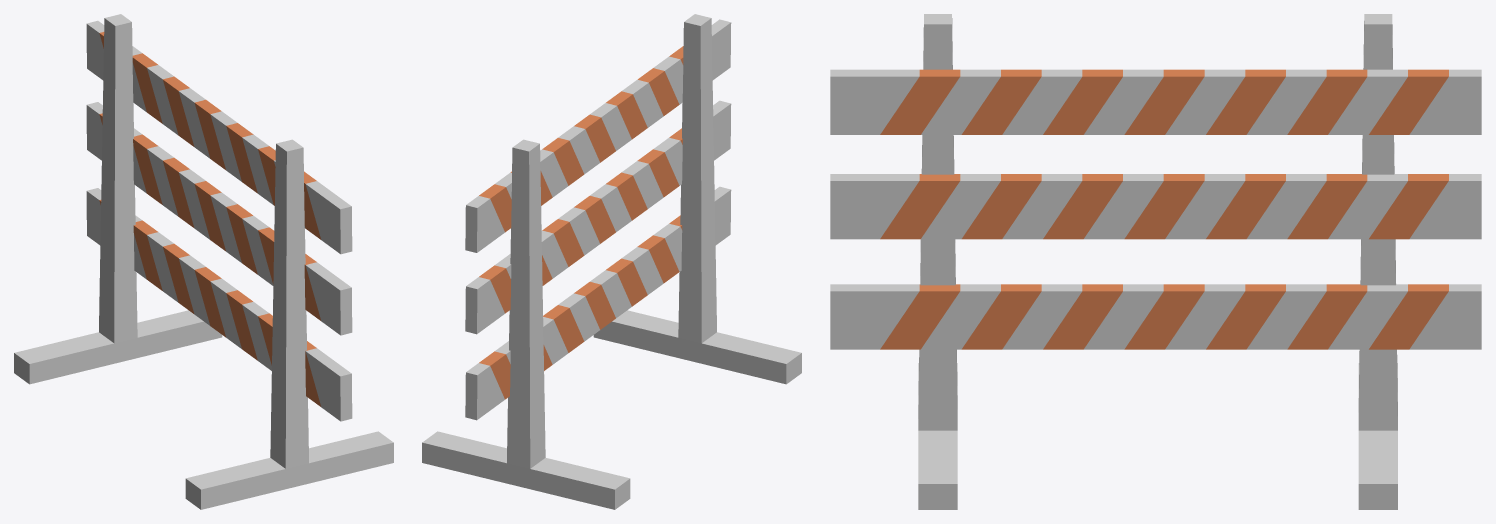
The model's file is road_blocker.fbx.
3 views of the same model, side by side, from view 1: azimuth 30°, elevation 25°; view 2: azimuth 150°, elevation 25°; view 3: azimuth 270°, elevation 25° (orthographic). The views are drawn at different scales.
Parts seen in each view (by area): view 1: Cube.006; view 2: Cube.006; view 3: Cube.006.
Part boxes in pixels (x1,y1,x2,y2): Cube.006: (14, 14, 393, 509); Cube.006: (422, 14, 801, 509); Cube.006: (830, 14, 1481, 509).
Bounding box in the file's own units: 156 × 260 × 357.
